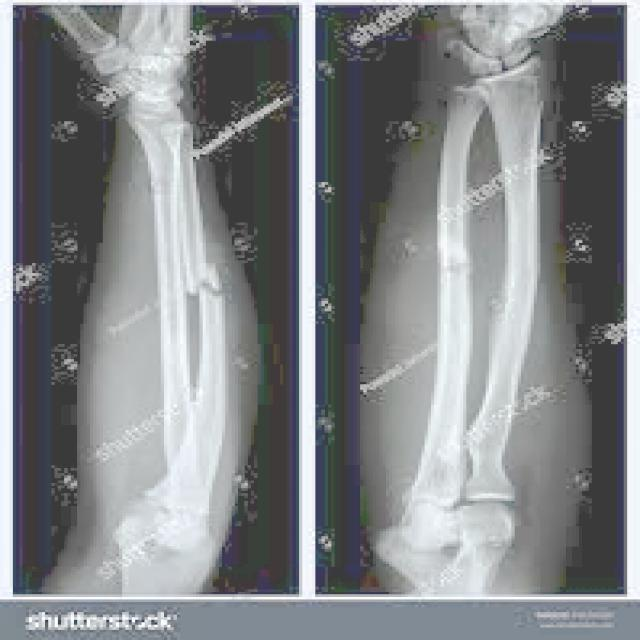Comminuted Fracture: (433, 234, 485, 292), (178, 264, 236, 314)
